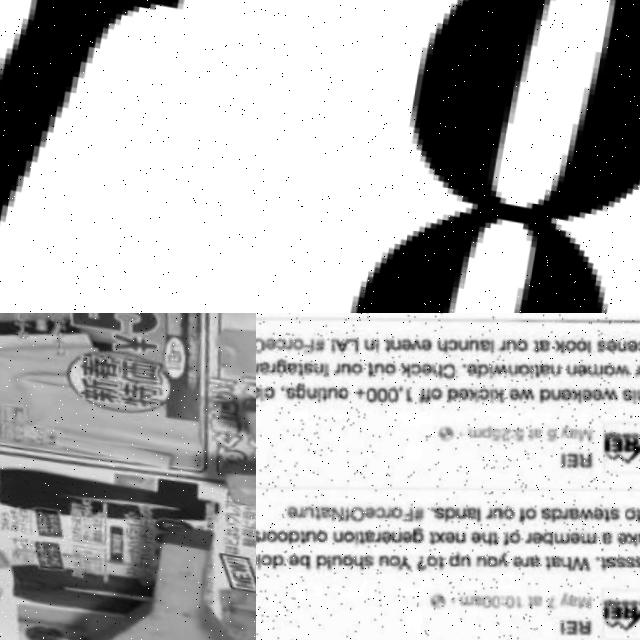0: (389, 377, 403, 396), (379, 378, 393, 396), (368, 378, 382, 396), (488, 582, 502, 599), (510, 583, 524, 598), (497, 582, 509, 599)
1: (408, 377, 419, 395), (522, 582, 533, 597)
2: (503, 414, 516, 431)
5: (516, 414, 529, 431), (494, 414, 507, 431)
6: (549, 414, 561, 430)
7: (552, 581, 566, 598)
8: (337, 0, 640, 313)
L: (0, 0, 173, 313)
X: (76, 513, 256, 640)
